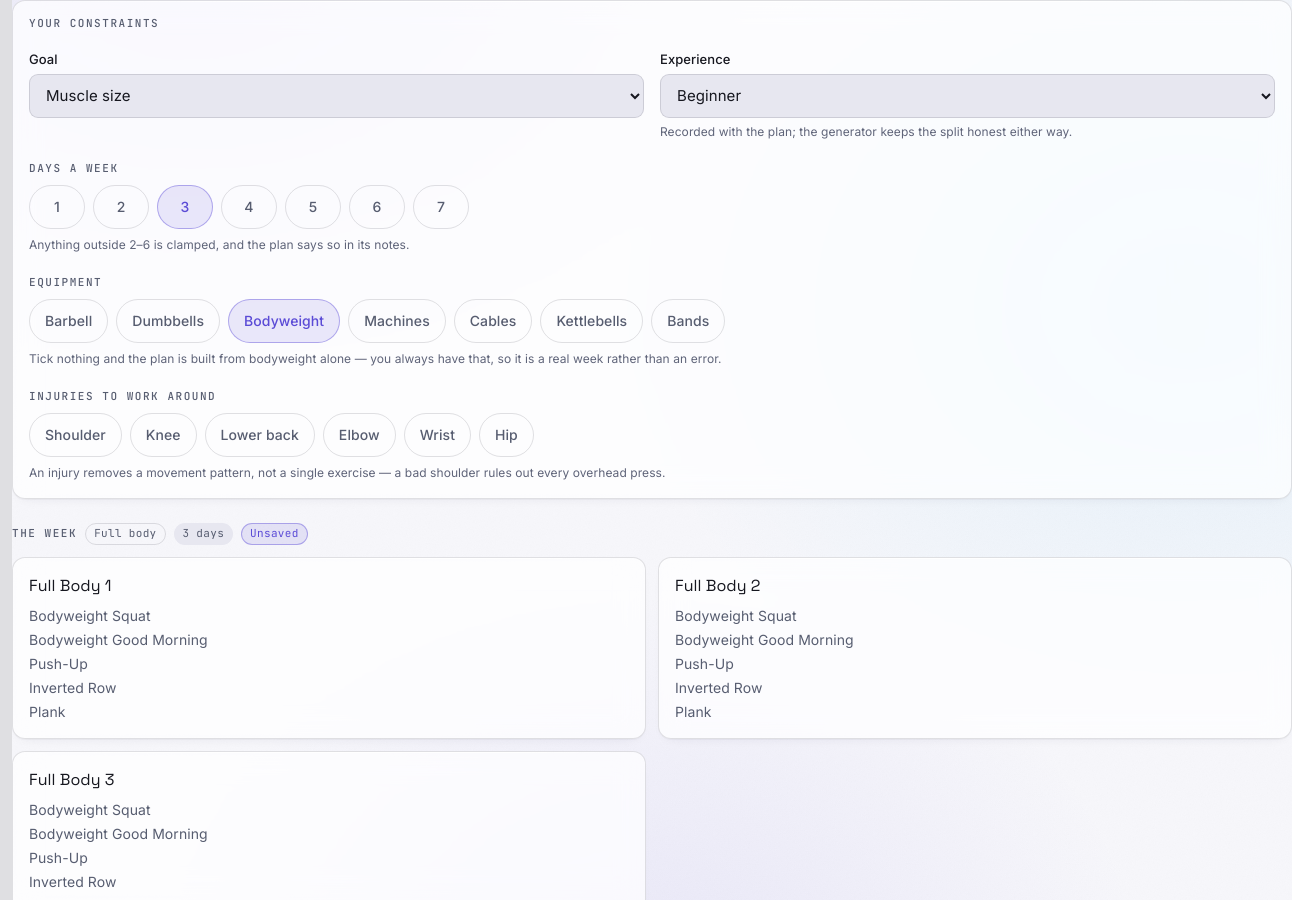
Test case: PlanEditor › saves the profile and the generated plan together
Click the button with test id "train-days-4".
click(249, 208)  # box x1=221 y1=186 x2=277 y2=230
(page scrolled)
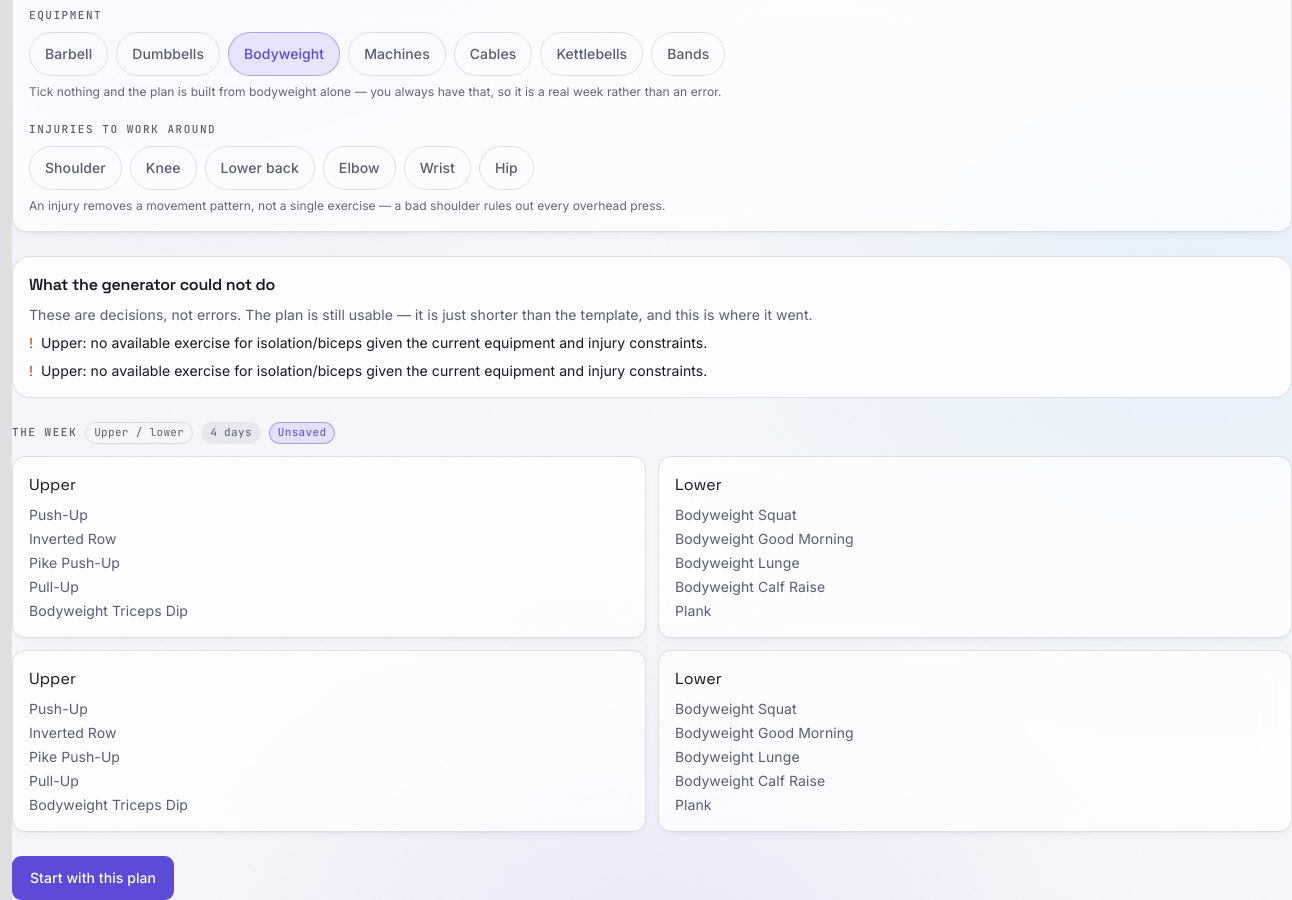
Click the button with test id "train-save-plan".
click(93, 878)  # box x1=12 y1=856 x2=174 y2=899
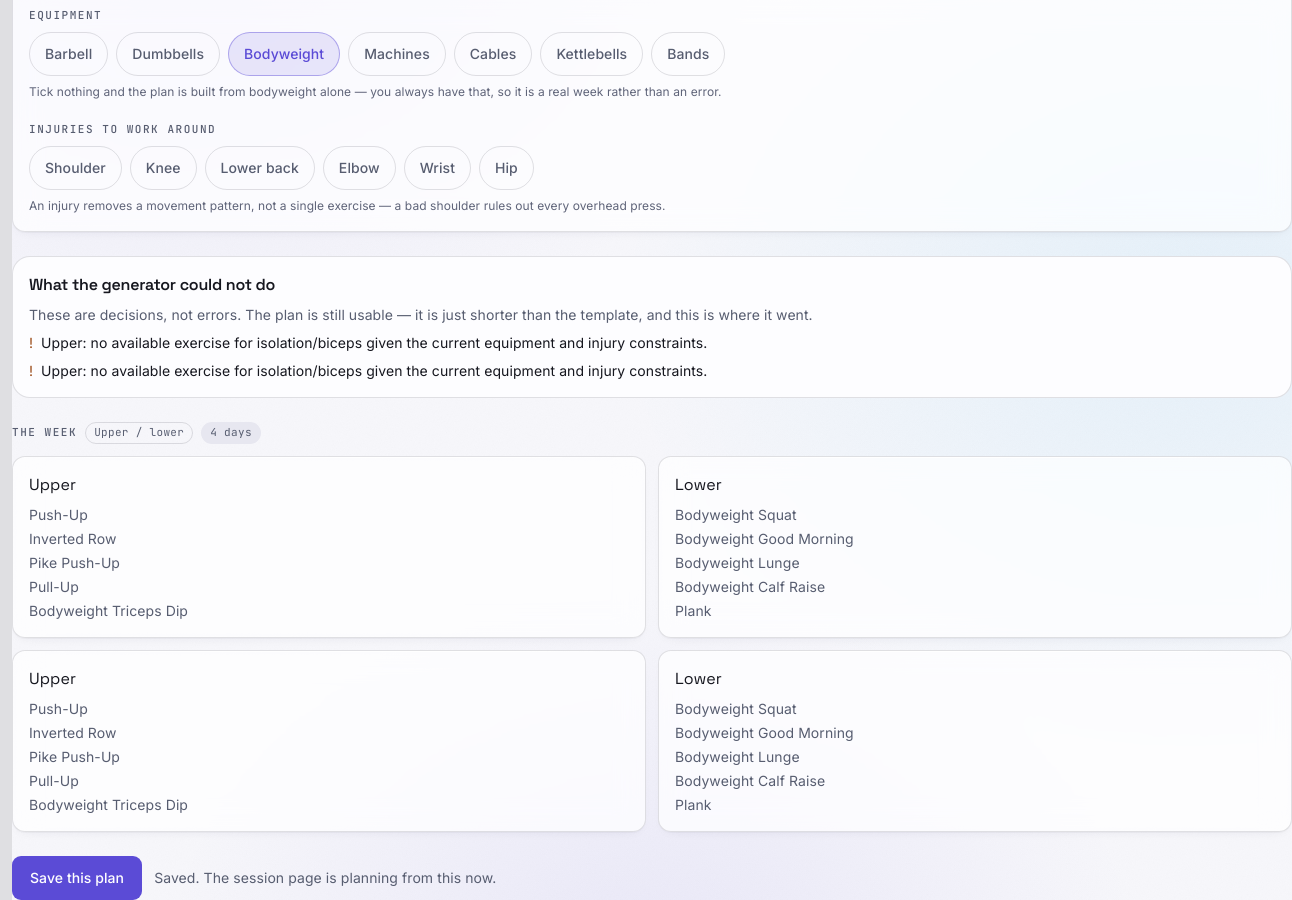
Result: the text "Saved. The session page is planning from this now." is shown at x1=154 y1=868 x2=496 y2=888
